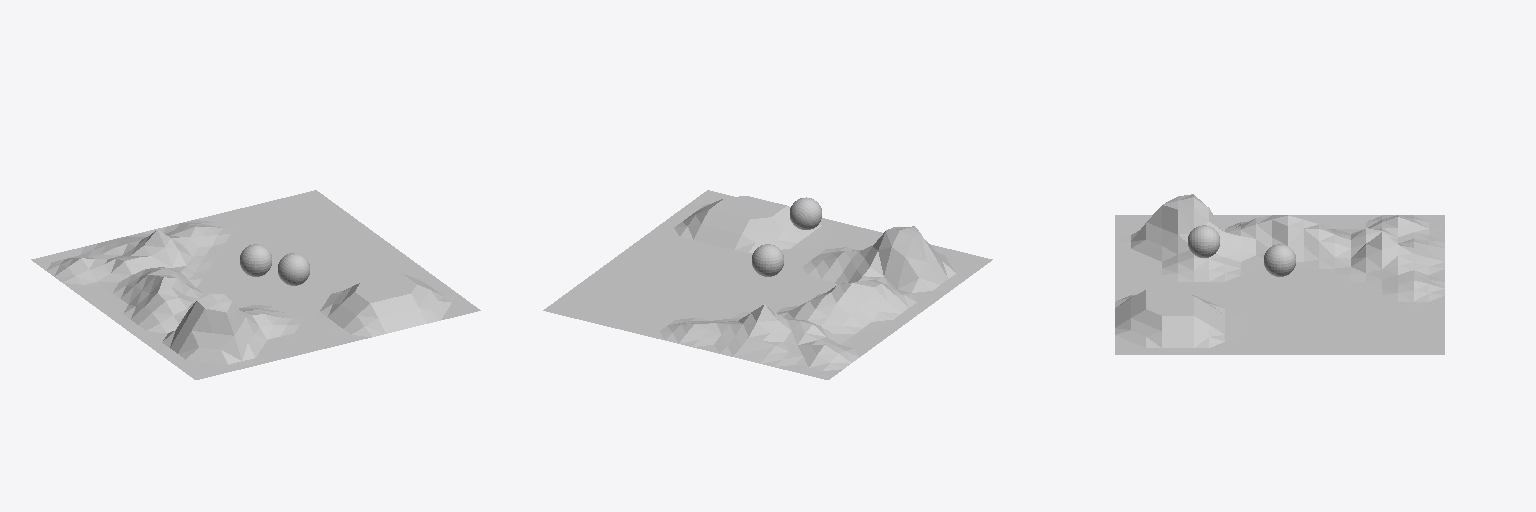
The model's file is terrain.obj.
3 renders of one model, left to right at view 1: azimuth 30°, elevation 25°; view 2: azimuth 150°, elevation 25°; view 3: azimuth 270°, elevation 25°, orthographic.
Visible parts, largest first — view 1: Terrain, Sphere, TD2_Enemy; view 2: Terrain, Sphere, TD2_Enemy; view 3: Terrain, Sphere, TD2_Enemy.
Part boxes in pixels (bbox=[...]): Terrain: bbox=[31, 190, 480, 379]; Sphere: bbox=[278, 253, 309, 285]; TD2_Enemy: bbox=[240, 244, 271, 276]; Terrain: bbox=[543, 190, 992, 379]; Sphere: bbox=[790, 197, 821, 229]; TD2_Enemy: bbox=[752, 244, 783, 276]; Terrain: bbox=[1115, 194, 1444, 354]; Sphere: bbox=[1188, 225, 1219, 257]; TD2_Enemy: bbox=[1264, 244, 1295, 276].
Bounding box in the file's own units: 20 × 3.91 × 20.